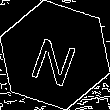N_N: (27, 24, 83, 86)
